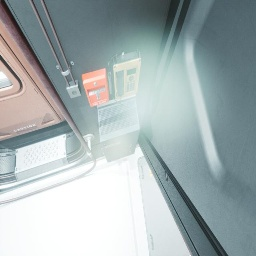EmergencyPhone ,: (108, 47, 141, 104)
FireAlarm ,: (82, 68, 109, 107)
